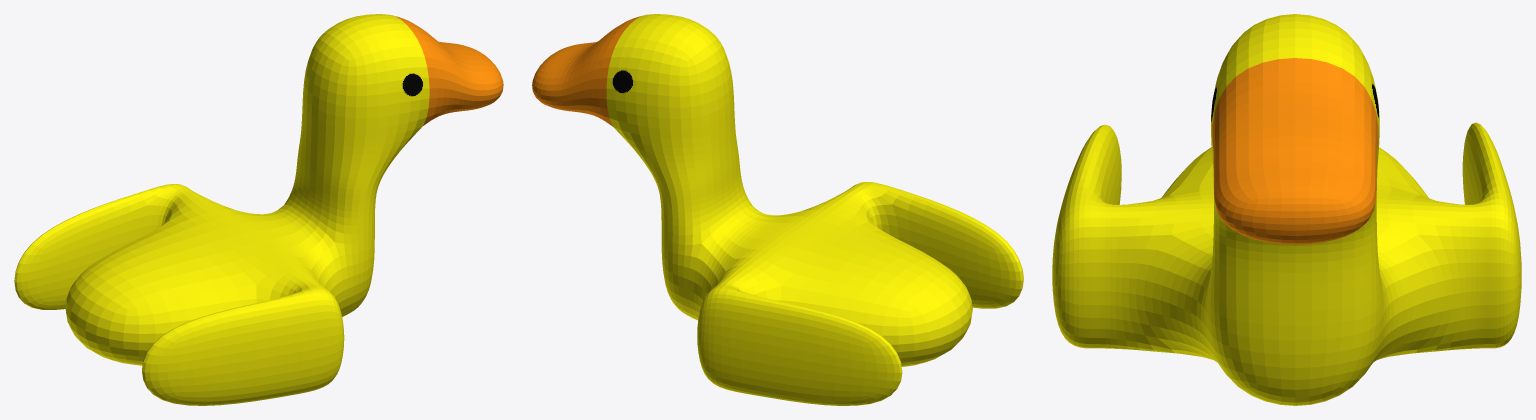
Rendered from lake.glb.
3 renders of one model, left to right at view 1: azimuth 30°, elevation 25°; view 2: azimuth 150°, elevation 25°; view 3: azimuth 270°, elevation 25°, orthographic. The views are drawn at different scales.
Parts seen in each view (by area): view 1: Cube; view 2: Cube; view 3: Cube.
Boxes of the visible parts, x1=… form: Cube: x1=14, y1=14, x2=503, y2=405; Cube: x1=532, y1=14, x2=1023, y2=405; Cube: x1=1052, y1=14, x2=1521, y2=405.
Size of the model in its own units: 7.82 by 5.11 by 5.29.
1 material, 1 textured.
